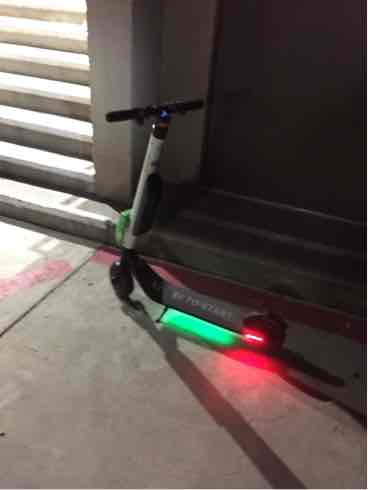scooter: (98, 95, 284, 364)
